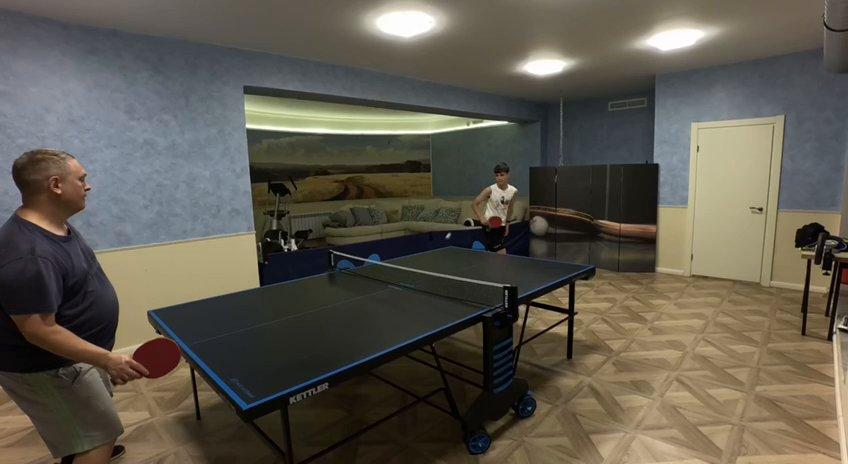Ball: (444, 233, 450, 239)
Net: (327, 251, 515, 308)
Player1: (472, 163, 517, 251)
Player2: (0, 149, 143, 448)
Table: (149, 247, 594, 409)
